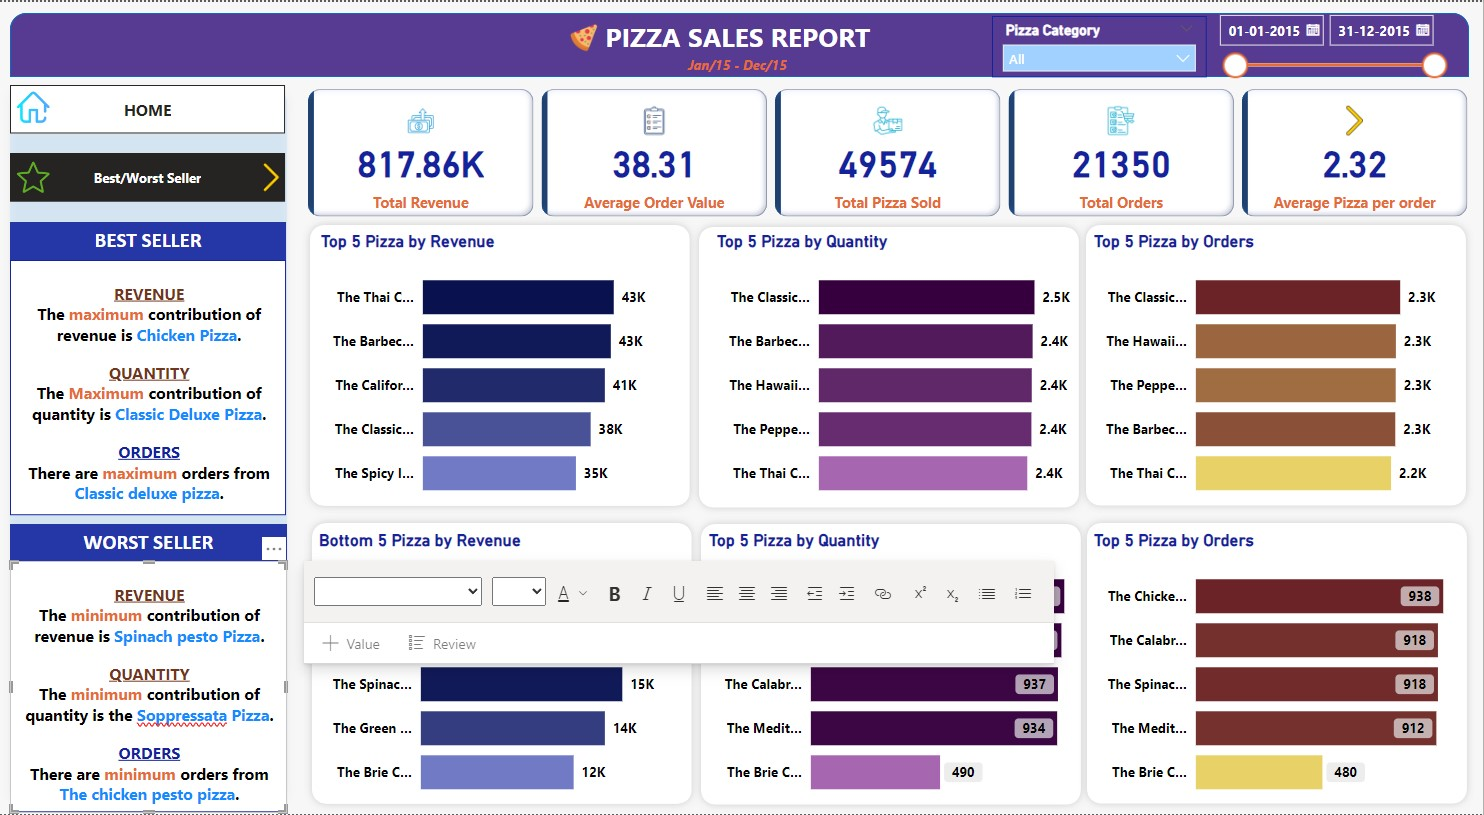

The dashboard page shown, as its layout file describes it:
{"tool":"powerbi","page":{"name":"Best/Worst Seller","canvas":[1500,820],"ordinal":1},"visuals":[{"type":"cardVisual","fields":{"Data":["pizza_sales.Total Revenue","pizza_sales.Average Order Price","pizza_sales.Total Pizza Sold","pizza_sales.Total Order","pizza_sales.Average Pizza per order"]},"box":[307.8,83.2,1185.4,139.1],"z":0},{"type":"shape","box":[11.1,11.1,1474.7,64.7],"z":1000},{"type":"textbox","box":[579.2,11.1,335.6,53.6],"z":2000},{"type":"textbox","box":[674.2,49.5,151.6,30.3],"z":3000},{"type":"image","box":[572.1,11.1,38.4,50.5],"z":4000},{"type":"shape","box":[306.6,217.7,400,300],"z":5000},{"type":"shape","box":[3.4,79.8,296.4,739.7],"z":6000},{"type":"textbox","box":[11.4,222.3,279.3,38.8],"z":7000},{"type":"textbox","box":[11.4,261,279.3,257.6],"z":8000},{"type":"textbox","box":[11.1,527.1,279.7,38.4],"z":9000},{"type":"textbox","box":[11.1,565.5,279.7,254.5],"z":10000},{"type":"slicer","fields":{"Values":["pizza_sales.pizza_category"]},"box":[1004.2,13.7,216.6,61.6],"z":11000},{"type":"slicer","fields":{"Values":["pizza_sales.order_date"]},"box":[1220.7,3.4,250.8,79.8],"z":12000},{"type":"shape","box":[699.8,218.8,400.1,299.8],"z":13000},{"type":"shape","box":[1090.8,217.7,400.1,299.8],"z":14000},{"type":"shape","box":[308.6,518.8,400,300],"z":15000},{"type":"shape","box":[701,519.8,400.1,299.8],"z":16000},{"type":"shape","box":[1091.9,518.8,400.1,299.8],"z":17000},{"type":"barChart","title":"Top 5 Pizza by Revenue","fields":{"Category":["pizza_sales.pizza_name"],"Y":["pizza_sales.Total Revenue"]},"box":[320.3,231.4,379.6,286.1],"z":18000},{"type":"barChart","title":"Bottom 5 Pizza by Revenue","fields":{"Category":["pizza_sales.pizza_name"],"Y":["pizza_sales.Total Revenue"]},"box":[318,533.4,379.6,286.1],"z":19000},{"type":"barChart","title":"Top 5 Pizza by Quantity","fields":{"Category":["pizza_sales.pizza_name"],"Y":["pizza_sales.Total Pizza Sold"]},"box":[720.4,231.4,379.6,286.1],"z":20000},{"type":"barChart","title":"Top 5 Pizza by Quantity","fields":{"Category":["pizza_sales.pizza_name"],"Y":["pizza_sales.Total Pizza Sold"]},"box":[712.4,533.4,379.6,286.1],"z":21000},{"type":"barChart","title":"Top 5 Pizza by Orders","fields":{"Category":["pizza_sales.pizza_name"],"Y":["pizza_sales.Total Orders"]},"box":[1101.8,231.5,379,286.1],"z":22000},{"type":"barChart","title":"Top 5 Pizza by Orders","fields":{"Category":["pizza_sales.pizza_name"],"Y":["pizza_sales.Total Orders"]},"box":[1102.2,533.4,379.6,286.1],"z":23000},{"type":"pageNavigator","box":[11.1,152.6,279,49.5],"z":24000},{"type":"pageNavigator","box":[11.1,83.9,279,49.5],"z":25000},{"type":"image","box":[13.1,83.9,43.5,45.5],"z":26000},{"type":"image","box":[13.1,155.7,43.5,43.5],"z":27000},{"type":"image","box":[255.7,154.6,39.4,45.5],"z":28000}]}

Visuals, with their boxes on the page's 1500x820 design canvas (x1, y1, x2, y2). These are canvas units, not pixel positions in the 1484x815 screenshot, which may show the page scaled, cropped or inside an application window:
cardVisual - pizza_sales.Total Revenue x pizza_sales.Average Order Price: 308 83 1493 222
shape: 11 11 1486 76
textbox: 579 11 915 65
textbox: 674 50 826 80
image: 572 11 610 62
shape: 307 218 707 518
shape: 3 80 300 820
textbox: 11 222 291 261
textbox: 11 261 291 519
textbox: 11 527 291 566
textbox: 11 566 291 820
slicer - pizza_sales.pizza_category: 1004 14 1221 75
slicer - pizza_sales.order_date: 1221 3 1472 83
shape: 700 219 1100 519
shape: 1091 218 1491 518
shape: 309 519 709 819
shape: 701 520 1101 820
shape: 1092 519 1492 819
"Top 5 Pizza by Revenue" barChart: 320 231 700 518
"Bottom 5 Pizza by Revenue" barChart: 318 533 698 820
"Top 5 Pizza by Quantity" barChart: 720 231 1100 518
"Top 5 Pizza by Quantity" barChart: 712 533 1092 820
"Top 5 Pizza by Orders" barChart: 1102 232 1481 518
"Top 5 Pizza by Orders" barChart: 1102 533 1482 820
pageNavigator: 11 153 290 202
pageNavigator: 11 84 290 133
image: 13 84 57 129
image: 13 156 57 199
image: 256 155 295 200
